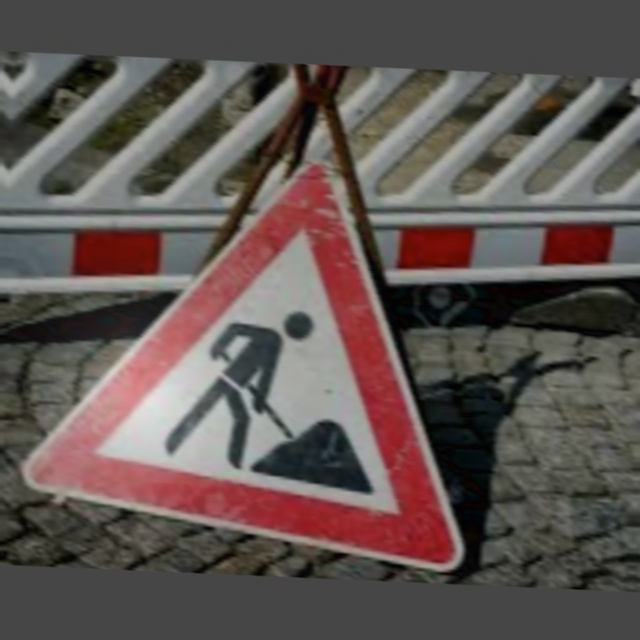Men_at_Work: (74, 164, 483, 572)
